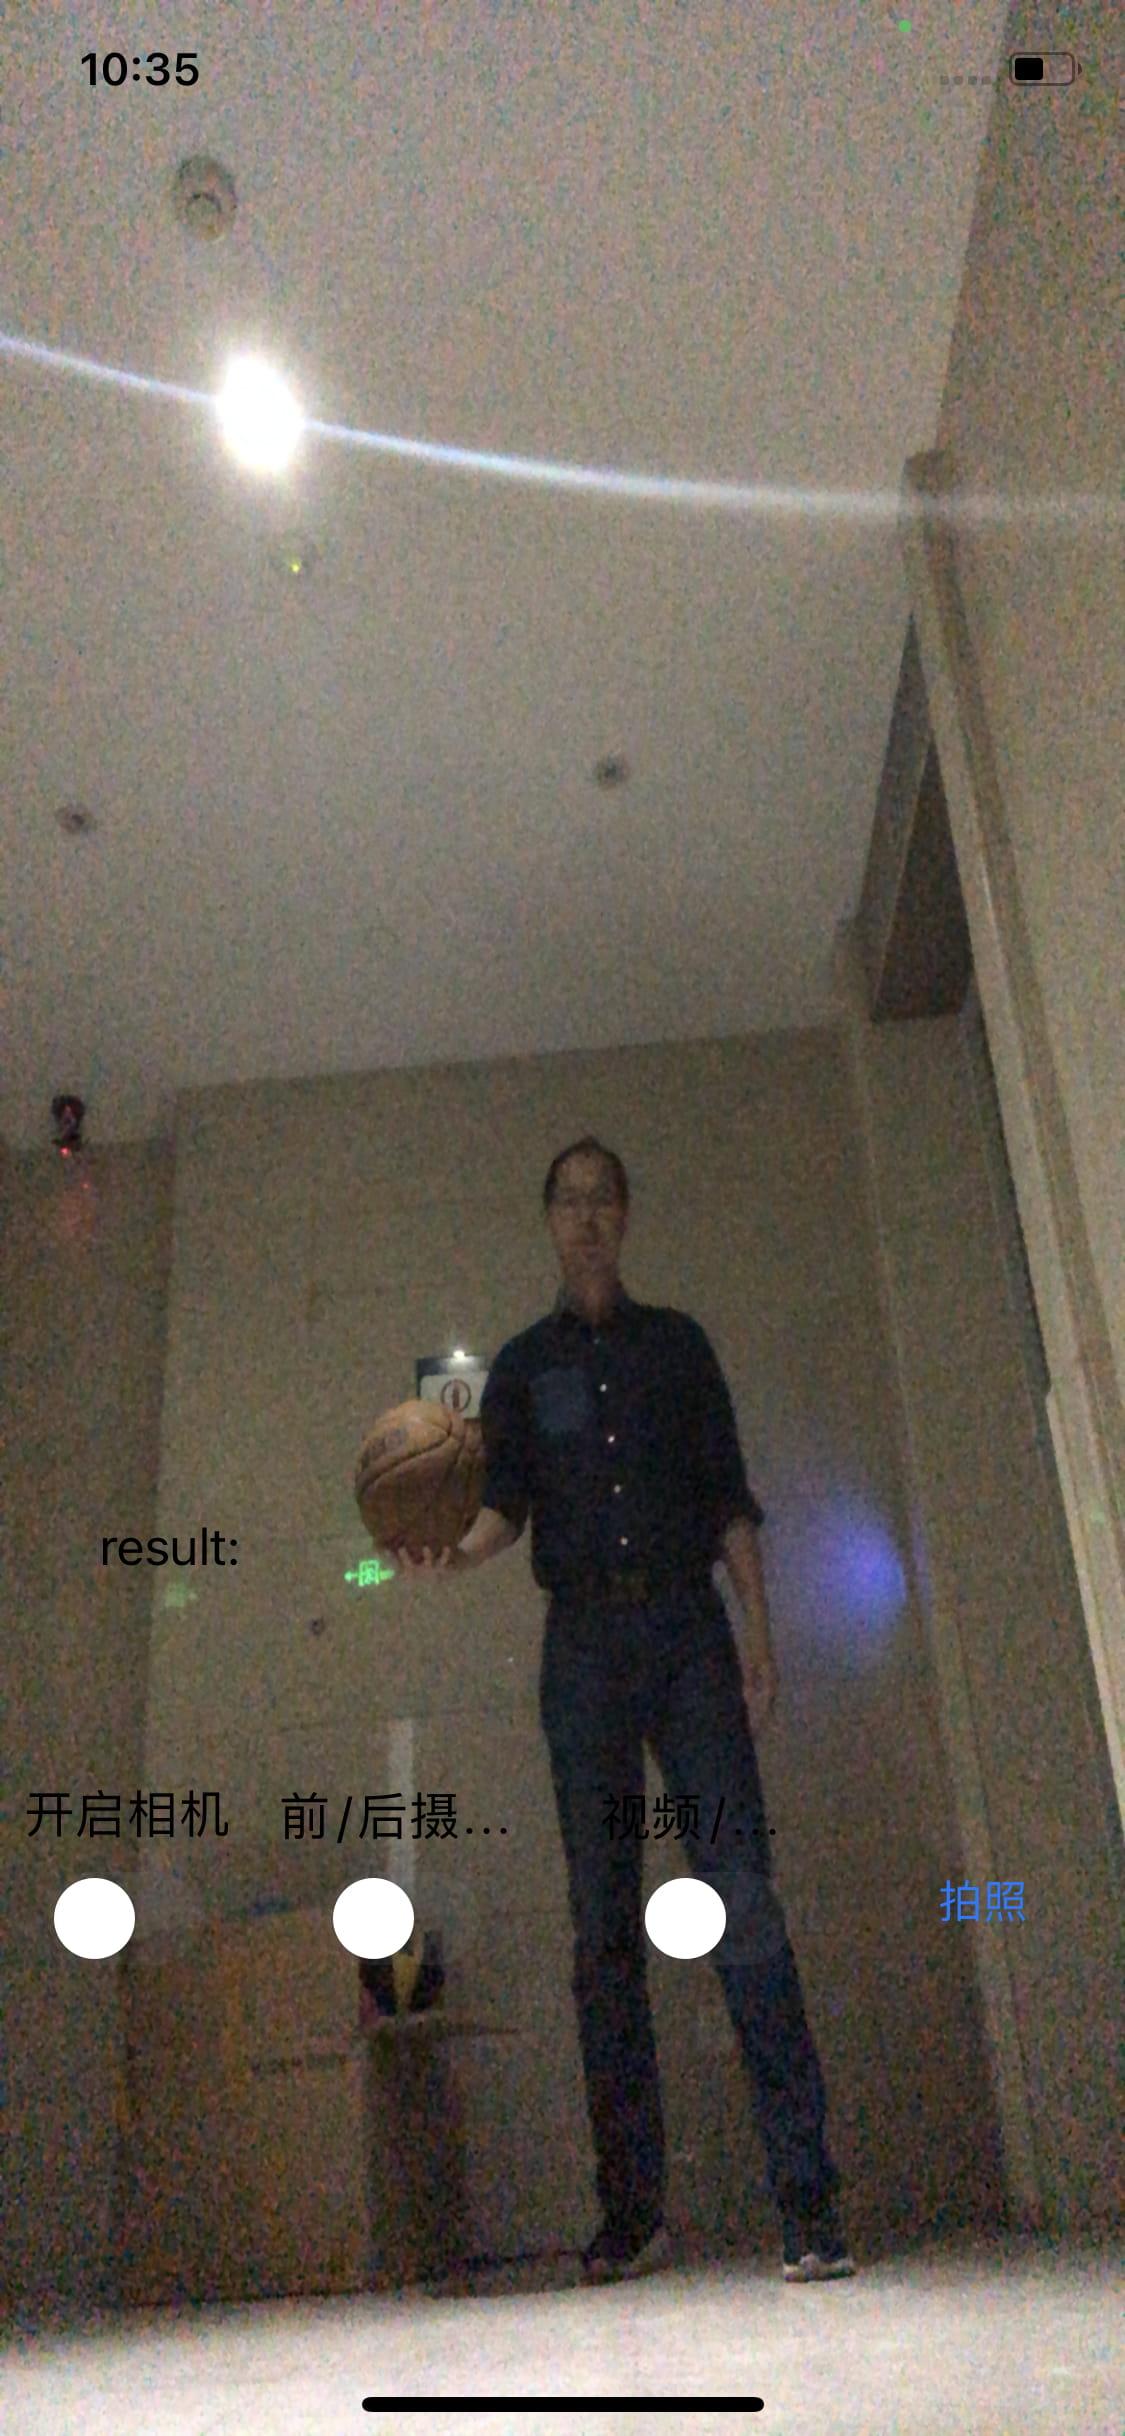ball: (356, 1394, 493, 1552)
